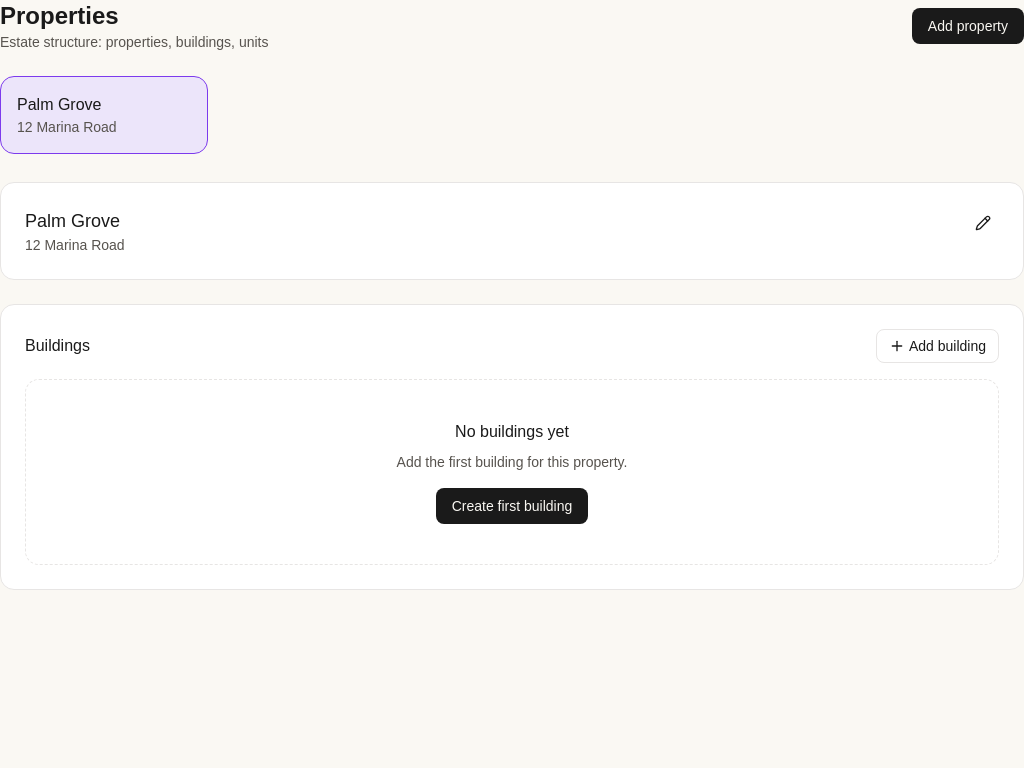
it: PropertiesPage › opens the add-property drawer
This screenshot has width=1024, height=768.
What coordinates should you click on to do the following:
click the button "Add property"
I would click on:
 (968, 26)
Its box is [912,8,1023,44].
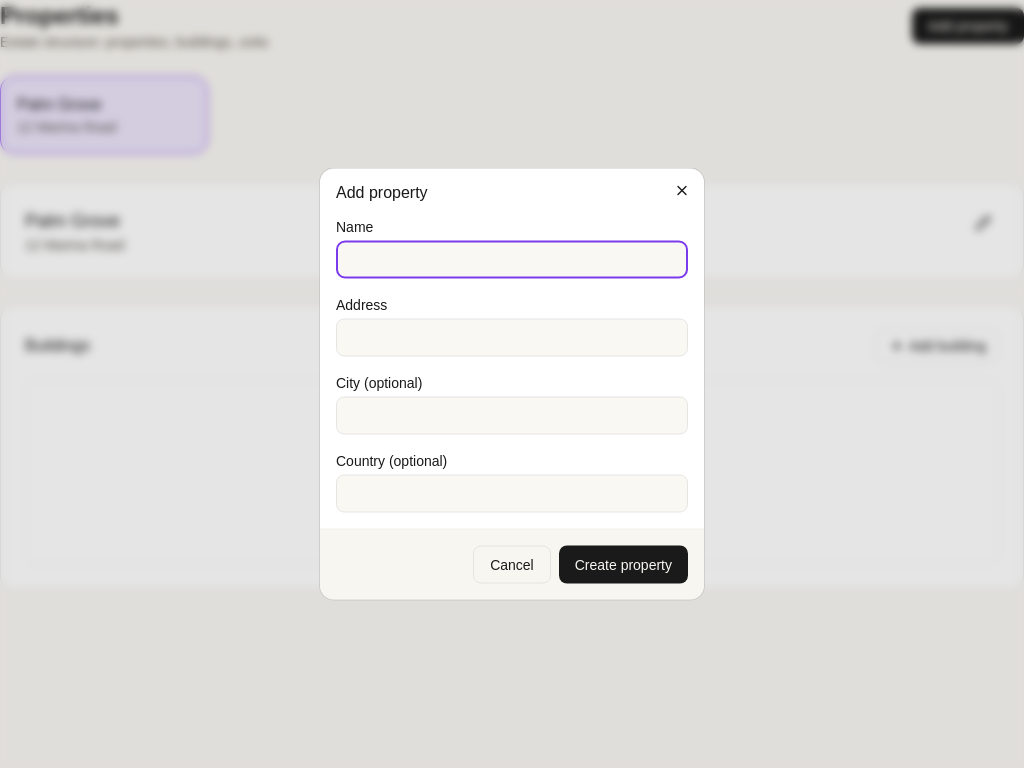
Now the dialog is shown, box [320,168,704,600]
Now the button "Create property" is shown, box [559,546,688,584]
